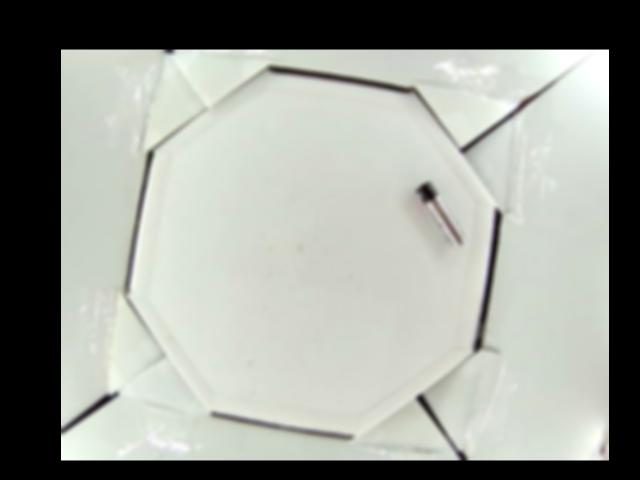Battery: (413, 178, 465, 253)
